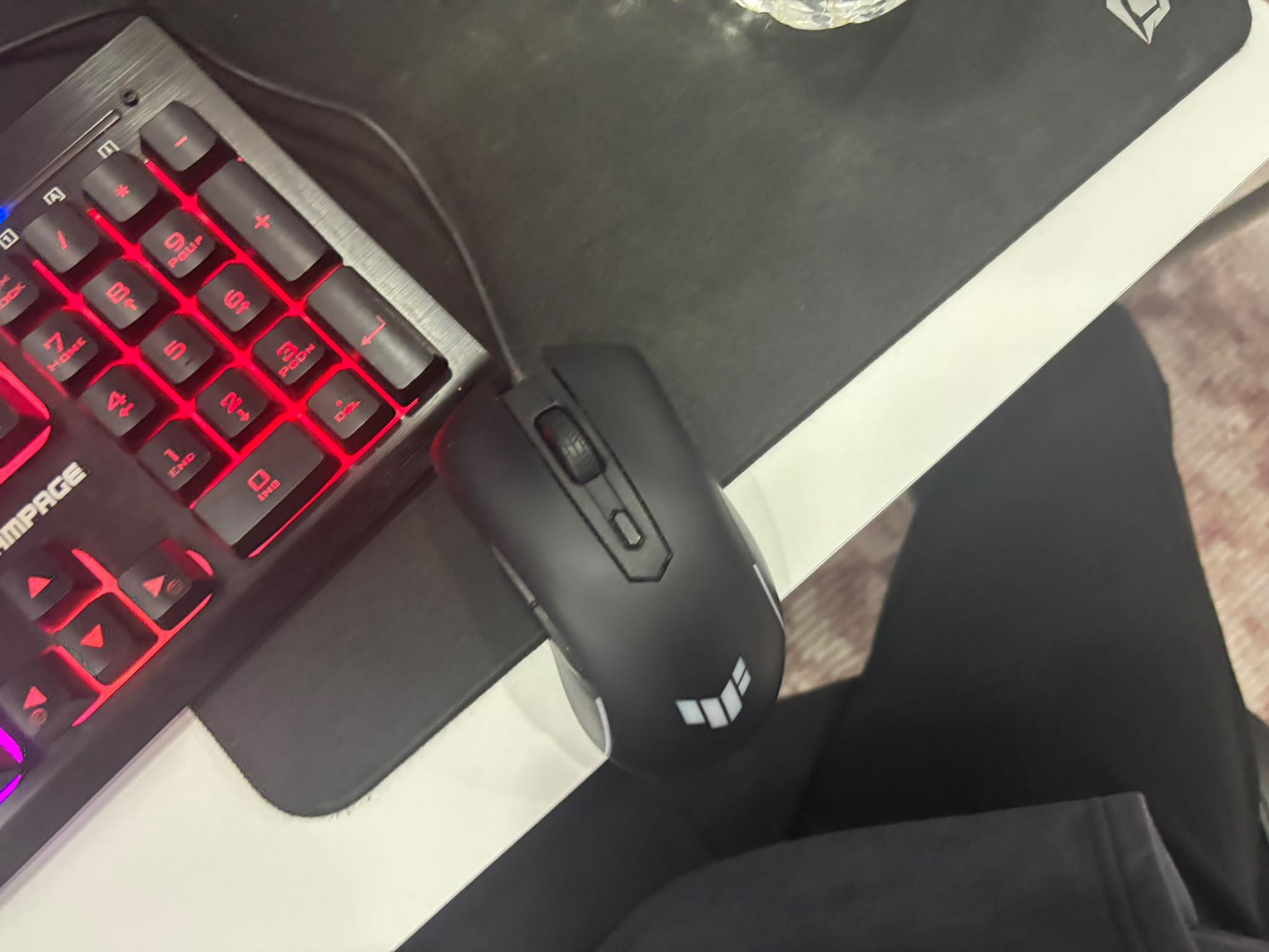cable: (0, 0, 525, 387)
keyboard: (0, 14, 495, 888)
mouse: (429, 340, 787, 777)
water bottel: (732, 0, 908, 31)
